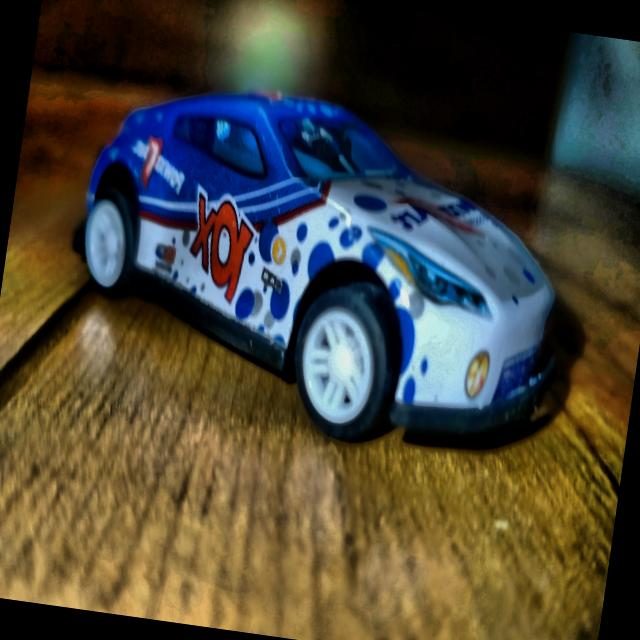Car: (56, 71, 584, 468)
